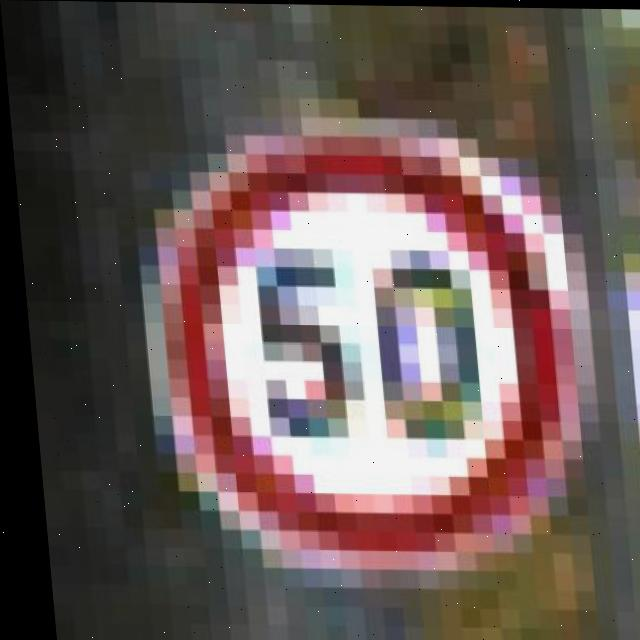Speed limit 50: (137, 118, 588, 572)
